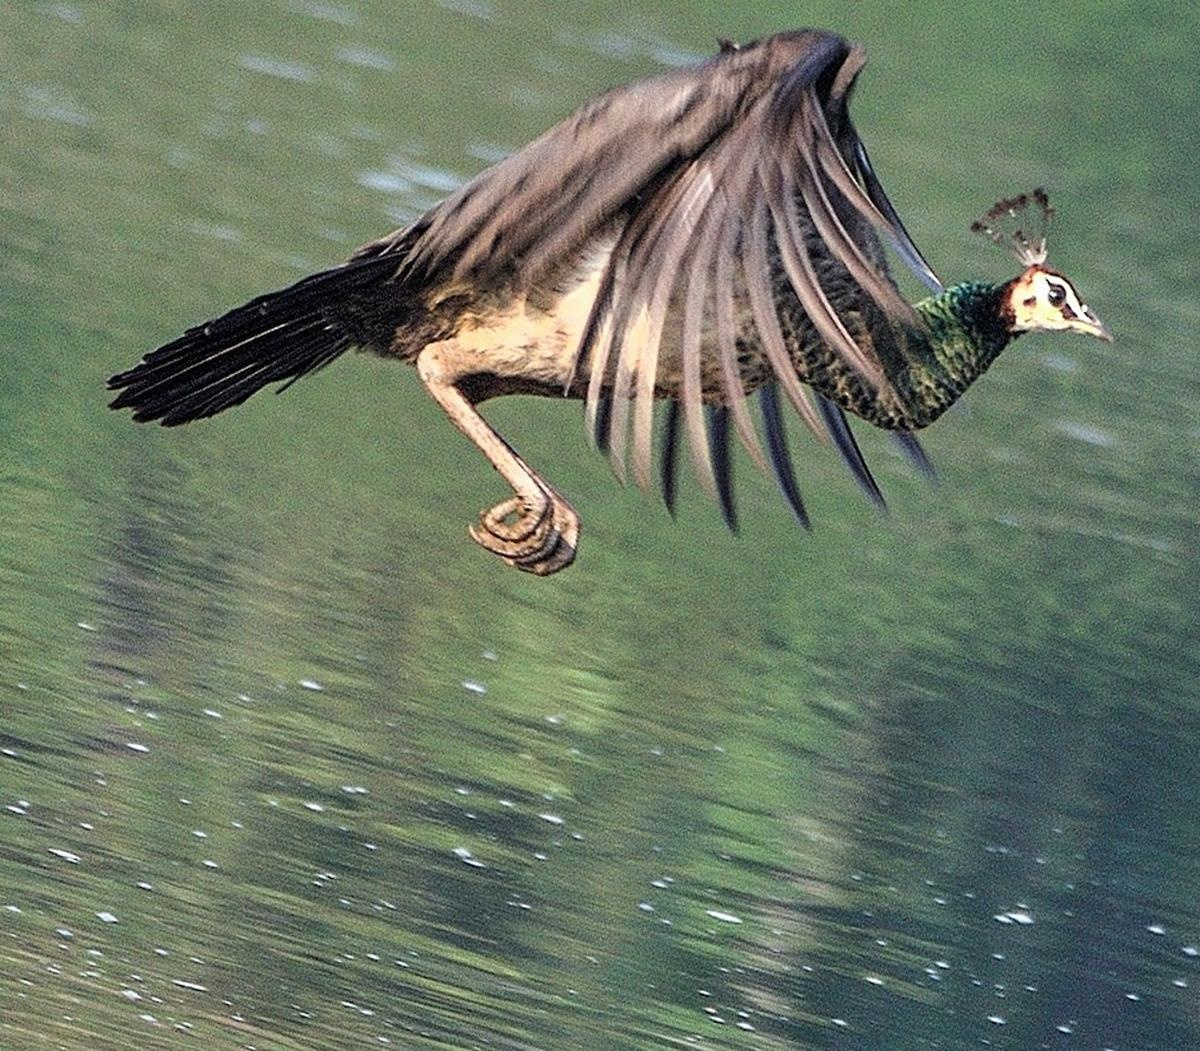peacock: (281, 37, 1112, 614)
